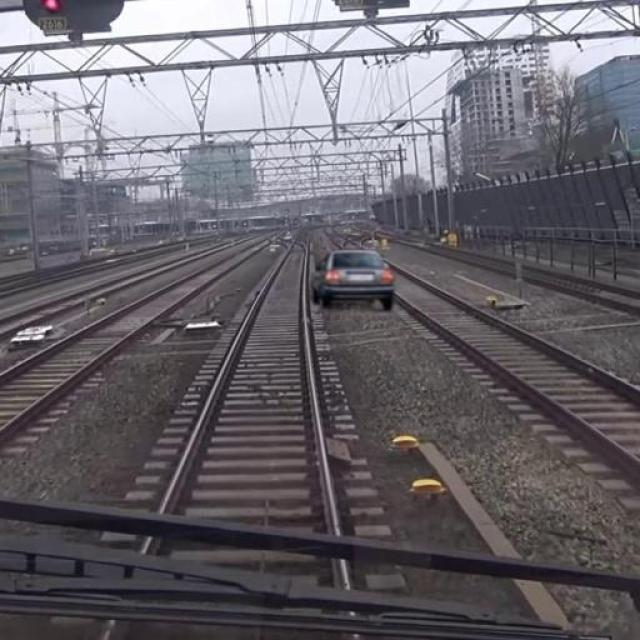vehicle: (305, 248, 404, 316)
